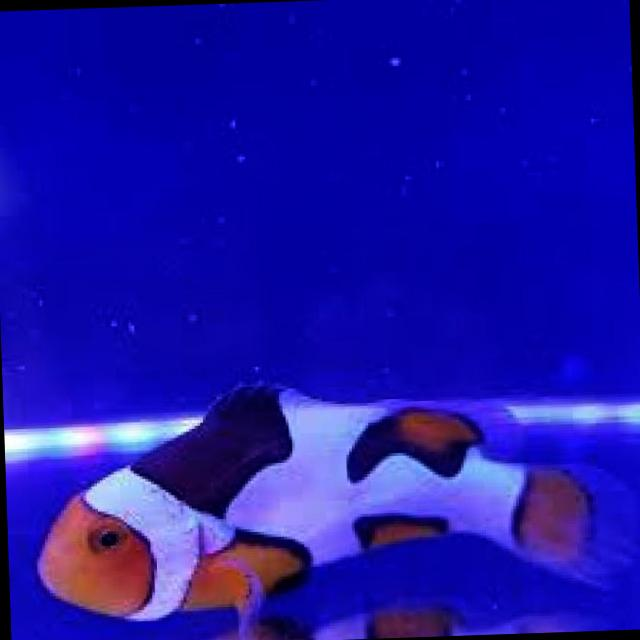ClownFish: (34, 372, 622, 618)
